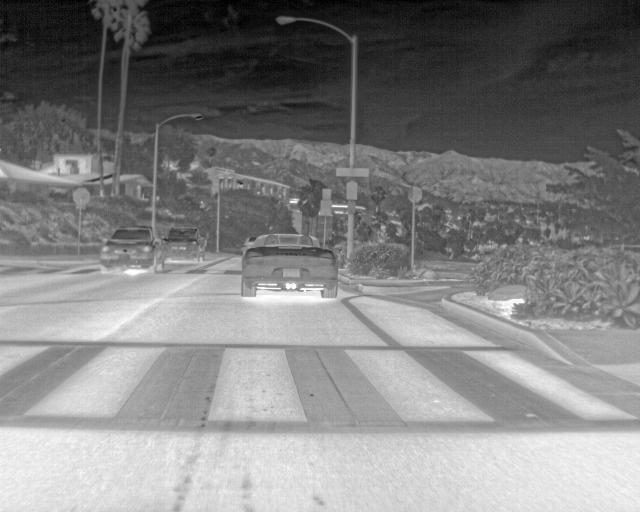car: (241, 232, 339, 301), (100, 226, 166, 273), (165, 227, 204, 263), (242, 236, 255, 249)
